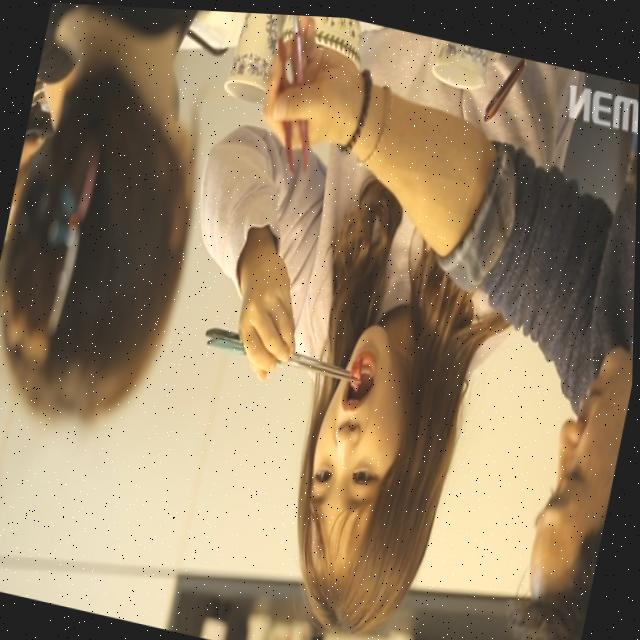eating-person: (116, 5, 588, 640)
